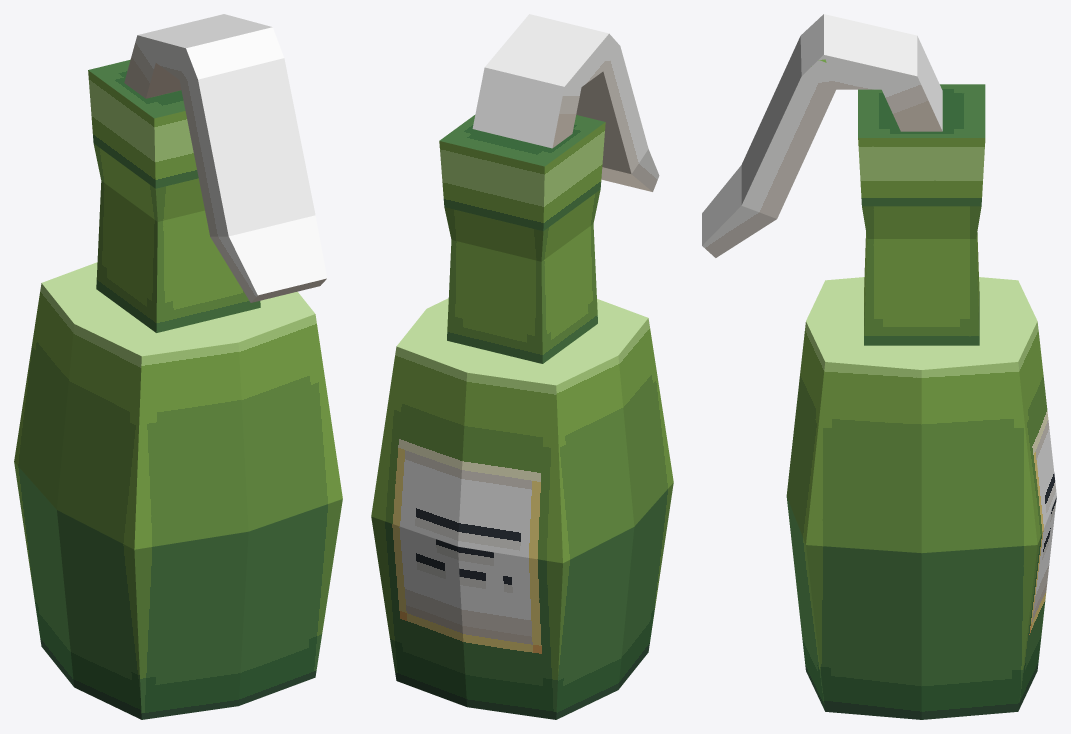
Rendered from molotov.gltf.
3 renders of one model, left to right at view 1: azimuth 30°, elevation 25°; view 2: azimuth 150°, elevation 25°; view 3: azimuth 270°, elevation 25°, orthographic. The views are drawn at different scales.
Parts seen in each view (by area): view 1: cube (×6); view 2: cube (×6); view 3: cube (×6).
Part boxes in pixels (bbox=[...]): cube (×6): bbox=[14, 14, 342, 719]; cube (×6): bbox=[371, 14, 673, 719]; cube (×6): bbox=[702, 14, 1056, 719].
Size of the model in its own units: 0.4375 by 1.14 by 0.5743.
1 material, 1 textured.
